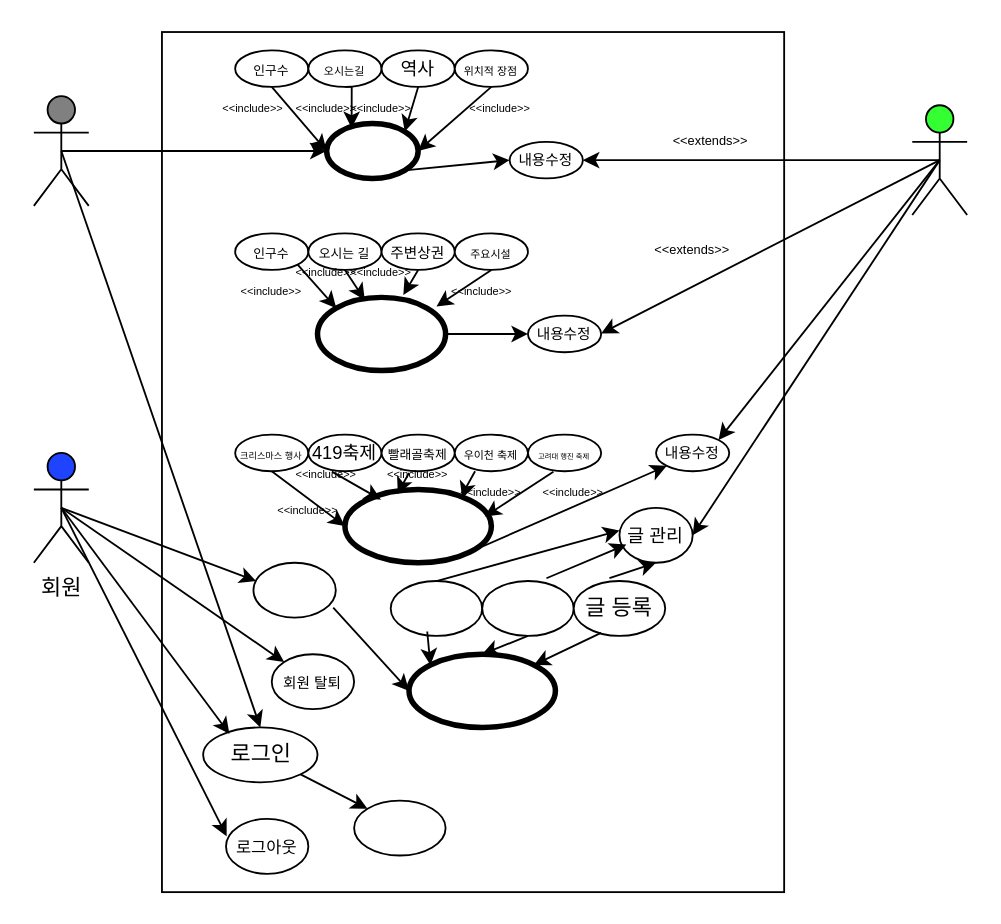
The diagram is 1001 pixels wide and 924 high, and some of its shapes have lost their labels. The shapes that lost their labels are listed below. From the top down, each one's box as (x1, y1, x2, y2) in pixels, then its label:
(32, 94, 89, 206): 비회원
(323, 120, 420, 180): 소개
(910, 103, 967, 215): 관리자
(314, 294, 447, 372): 교통 및 상권
(341, 486, 493, 565): 행사
(252, 561, 336, 618): 목록 보기
(389, 579, 482, 636): 글 수정
(480, 579, 574, 636): 글 삭제
(405, 651, 557, 729): 공지사항
(352, 799, 446, 856): 회원 가입
